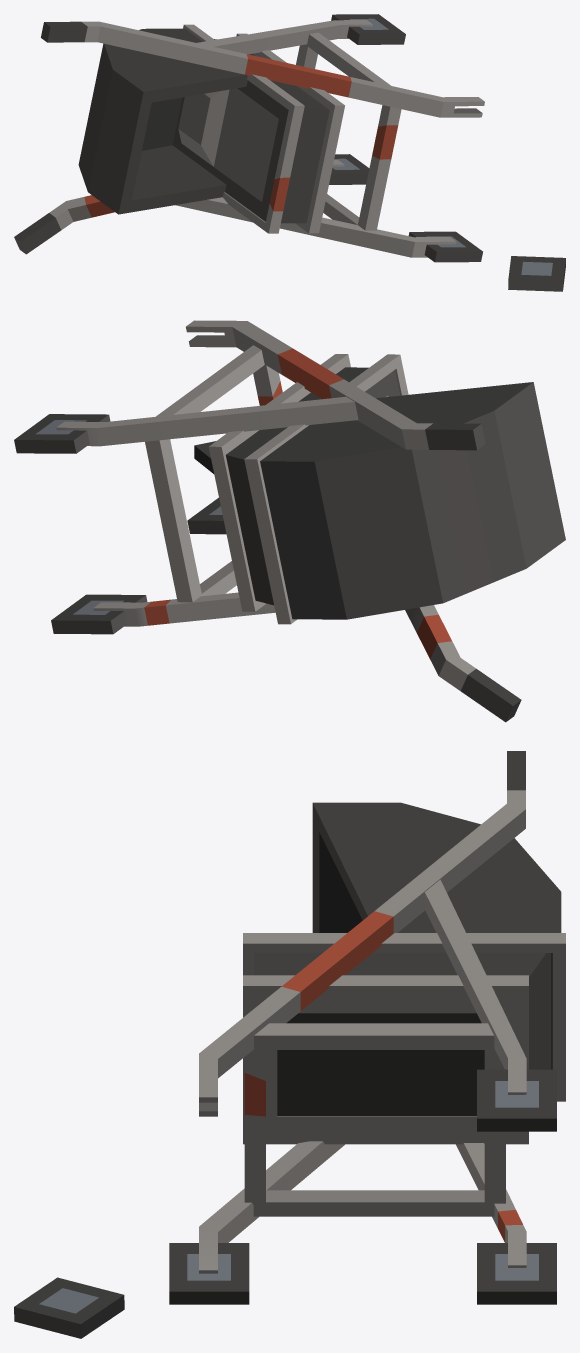
The model's file is AI_Prop_PushChair_Broken.fbx.
3 renders of one model, top to bottom at view 1: azimuth 30°, elevation 25°; view 2: azimuth 150°, elevation 25°; view 3: azimuth 270°, elevation 25°, orthographic. The views are drawn at different scales.
Visible parts, largest first — view 1: AI_Prop_PushChair_Broken; view 2: AI_Prop_PushChair_Broken; view 3: AI_Prop_PushChair_Broken.
Boxes of the visible parts, <box> form: AI_Prop_PushChair_Broken: <box>14,14,565,291</box>; AI_Prop_PushChair_Broken: <box>14,320,565,722</box>; AI_Prop_PushChair_Broken: <box>14,751,565,1338</box>.
Size of the model in its own units: 2.47 by 1.34 by 2.03.
